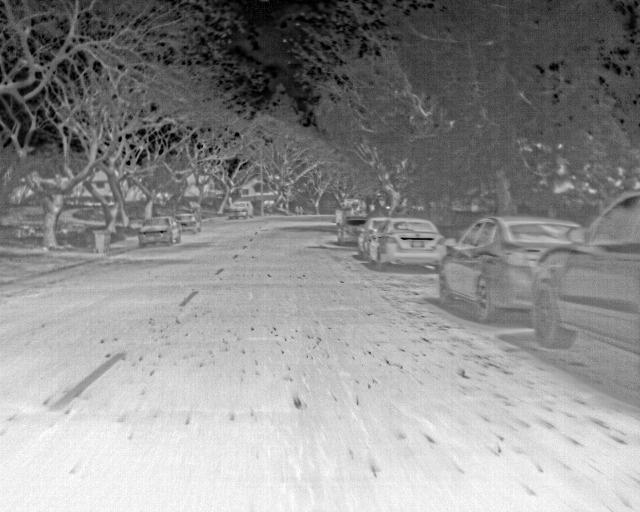car: (533, 186, 639, 360), (437, 213, 583, 324), (370, 220, 445, 270), (136, 213, 181, 245), (356, 214, 383, 254), (334, 214, 364, 245), (173, 211, 202, 234), (229, 198, 252, 218)
